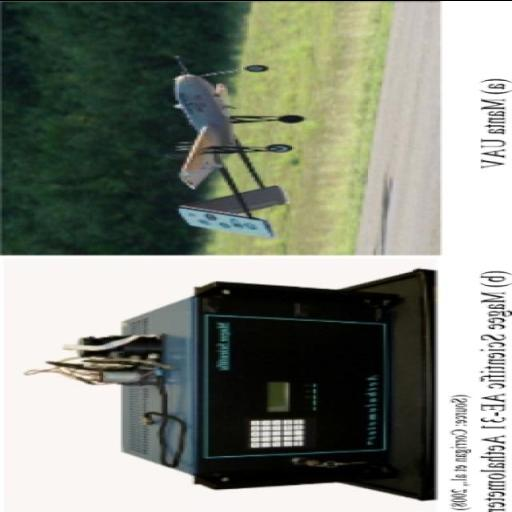uav: (117, 52, 333, 236)
